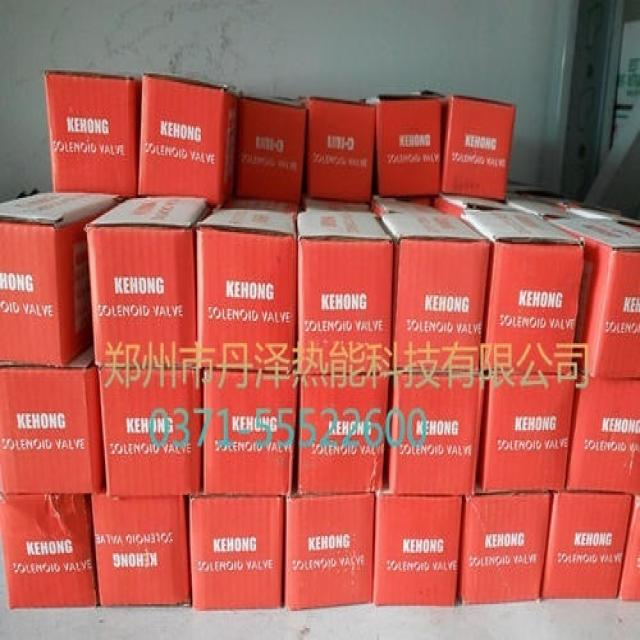box: (83, 196, 212, 369), (0, 191, 125, 367), (460, 210, 585, 375), (196, 196, 297, 374), (381, 213, 490, 372), (297, 210, 393, 375), (0, 345, 105, 495), (545, 215, 640, 379), (138, 73, 239, 207), (100, 369, 204, 497), (477, 364, 576, 492), (294, 370, 393, 497), (204, 364, 298, 497), (91, 483, 191, 608), (384, 374, 485, 497), (44, 70, 141, 196), (0, 493, 99, 609), (458, 485, 552, 604), (189, 492, 284, 609), (284, 493, 375, 611), (372, 493, 463, 606), (541, 492, 634, 599), (566, 364, 640, 497), (298, 97, 376, 201), (234, 96, 308, 203), (365, 94, 442, 196), (442, 96, 516, 201), (616, 497, 640, 602), (433, 193, 522, 217), (371, 193, 449, 217), (302, 191, 374, 212), (509, 198, 577, 218), (568, 207, 640, 222)
